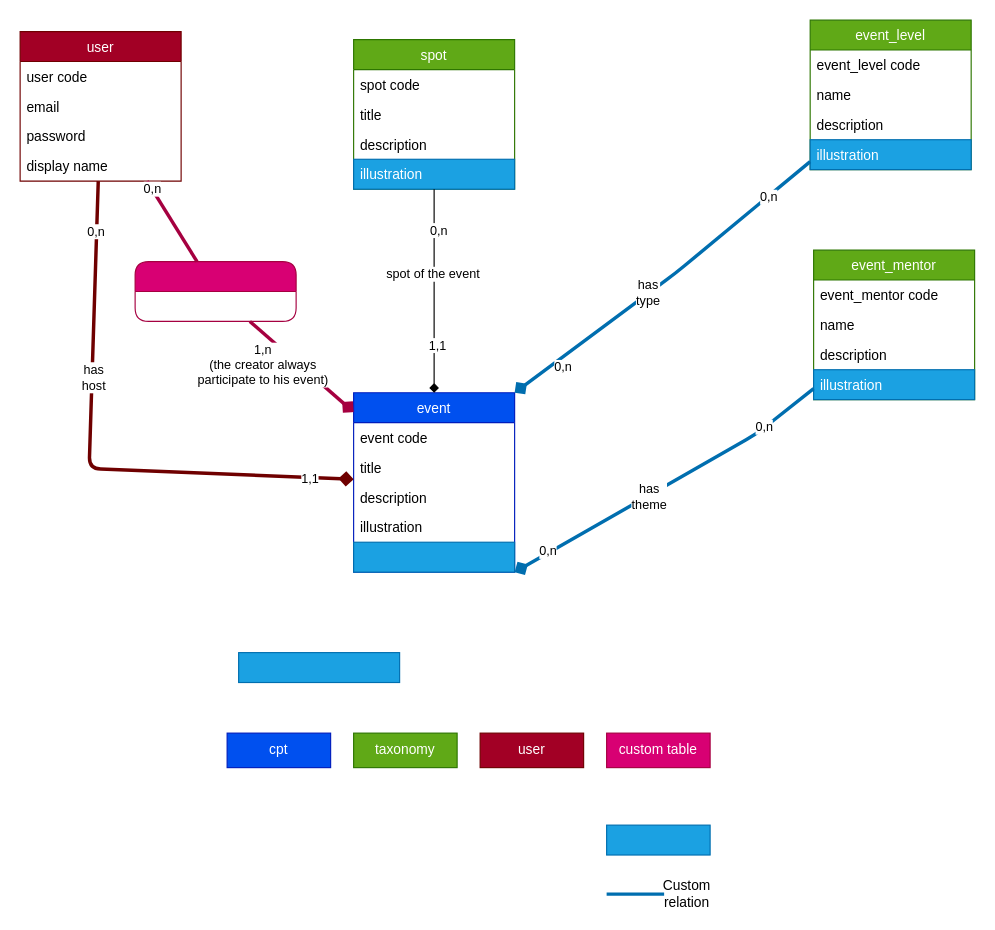
This 995x930 diagram has some shape labels left out. Each missing label, with the centre of its shape:
"custom fields" belongs at point (657, 839).
"date" belongs at point (433, 556).
"participation" belongs at point (215, 290).
"Players number" belongs at point (318, 667).
